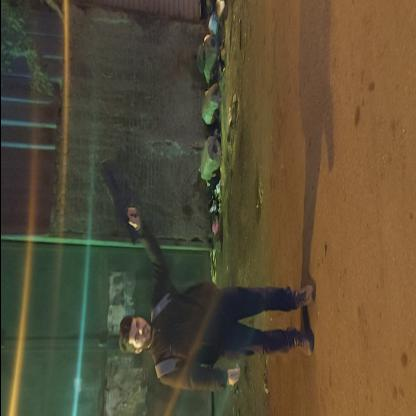long weapon: (92, 146, 150, 262)
